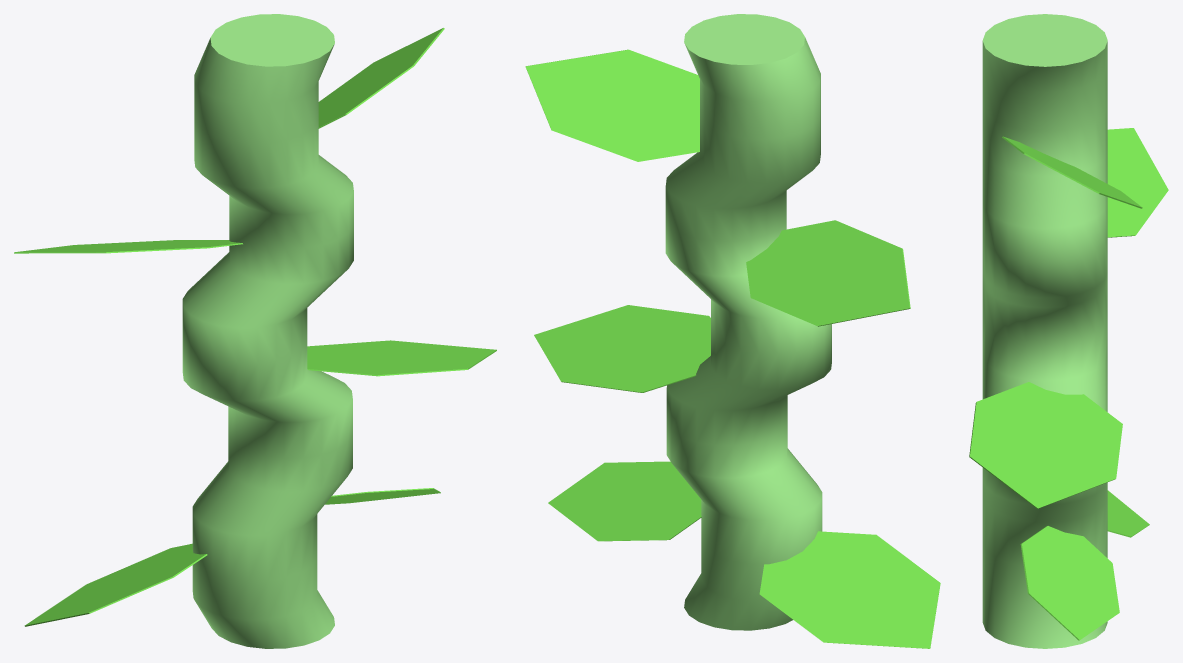
Rendered from Vine.fbx.
3 renders of one model, left to right at view 1: azimuth 30°, elevation 25°; view 2: azimuth 150°, elevation 25°; view 3: azimuth 270°, elevation 25°, orthographic. The views are drawn at different scales.
Parts seen in each view (by area): view 1: Vine:pCube6; view 2: Vine:pCube6; view 3: Vine:pCube6.
Part boxes in pixels (x1,y1,x2,y2): Vine:pCube6: (14, 14, 496, 648); Vine:pCube6: (525, 14, 940, 648); Vine:pCube6: (969, 14, 1168, 648).
Size of the model in its own units: 0.7916 by 1 by 0.3108.
